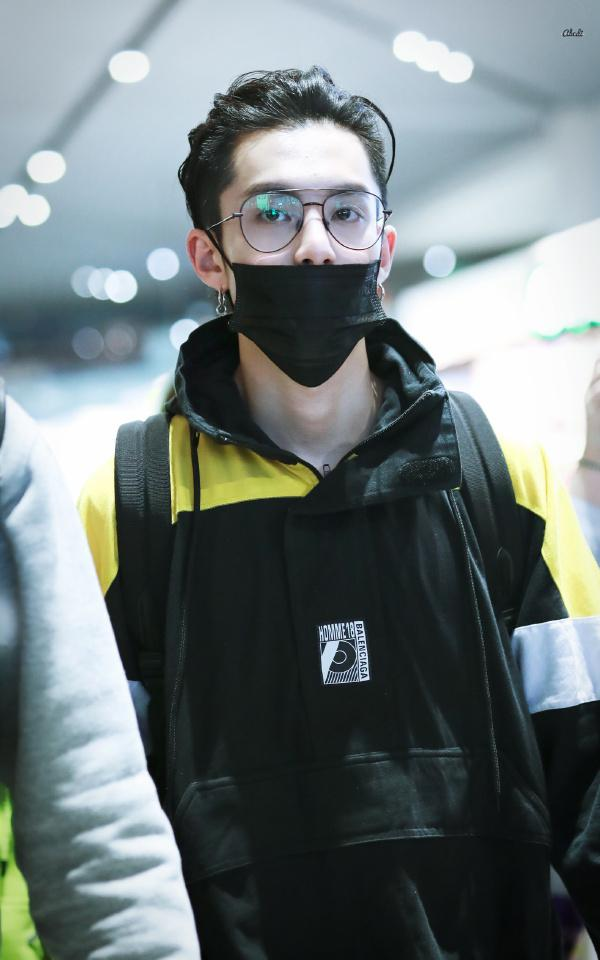WRONG: (224, 150, 380, 378)
